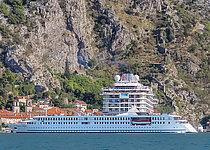Ship: (9, 108, 201, 139)
